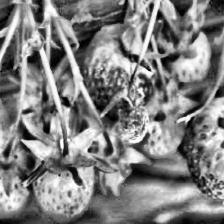Gray Mold: (99, 83, 149, 143)
